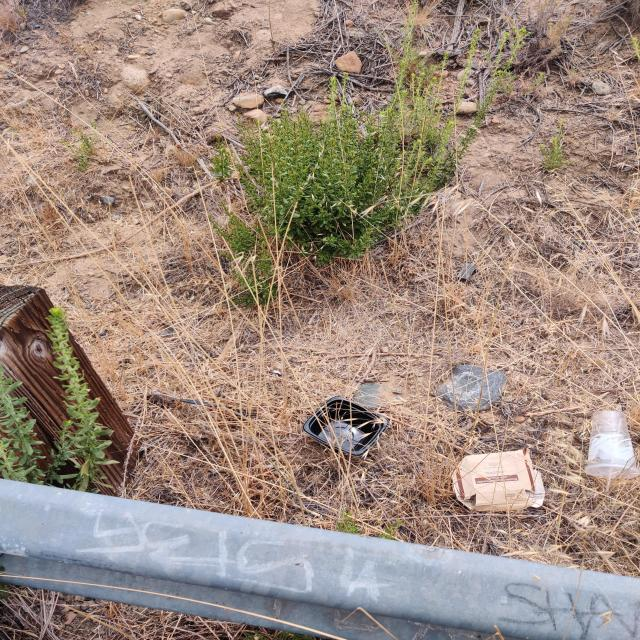litter: (451, 448, 545, 512), (303, 396, 389, 457), (584, 411, 639, 478)
